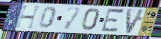0: (80, 8, 102, 32), (38, 5, 58, 30)
7: (64, 6, 82, 31)
E: (100, 7, 126, 35)
H: (14, 5, 43, 30)
V: (125, 8, 147, 35)
